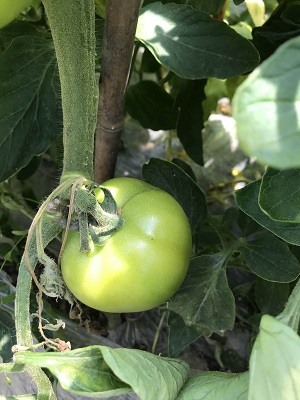immature-tomato: (58, 175, 194, 314)
